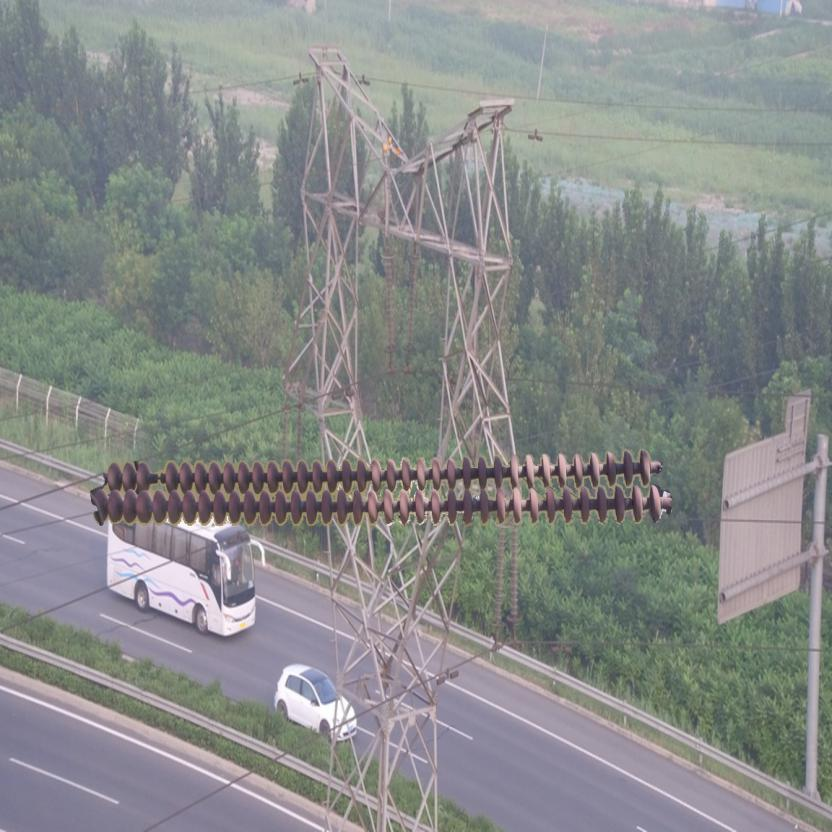defect: (134, 458, 180, 492)
